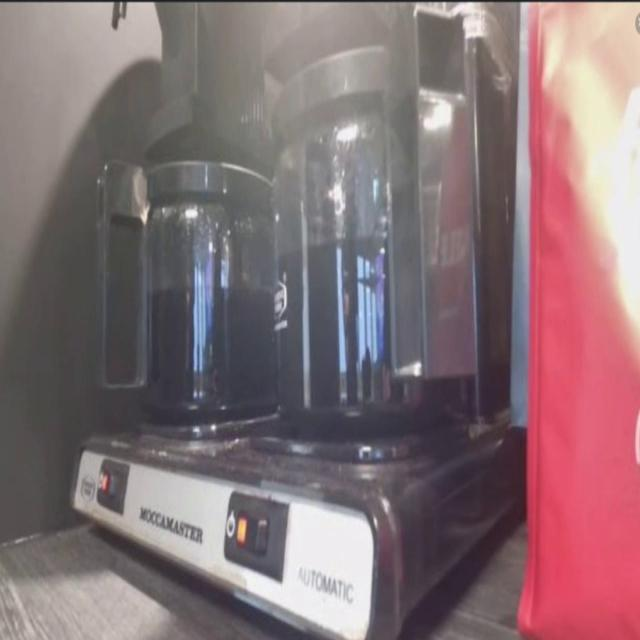coffee: (265, 24, 476, 459), (120, 139, 292, 444)
